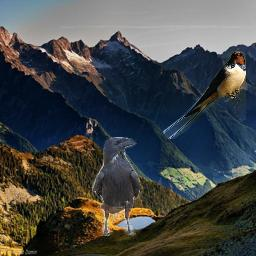Crow: (92, 137, 143, 236)
Swallow: (163, 51, 246, 139)
